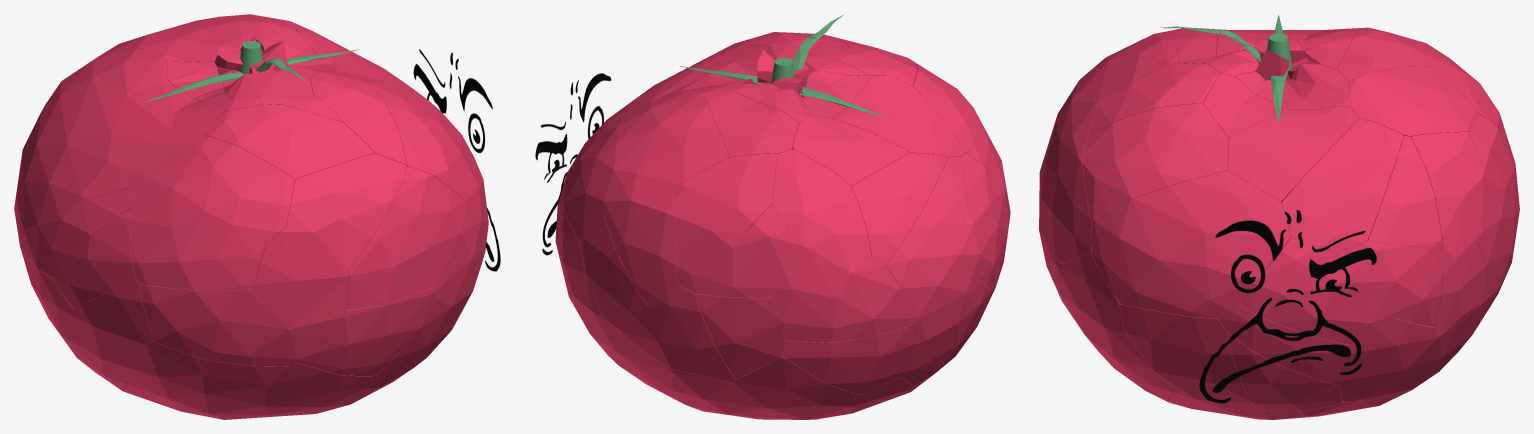
Rendered from Brandywine Tomato-Angry (Post Explosion).glb.
3 renders of one model, left to right at view 1: azimuth 30°, elevation 25°; view 2: azimuth 150°, elevation 25°; view 3: azimuth 270°, elevation 25°, orthographic. The views are drawn at different scales.
Visible parts, largest first — view 1: Brandywine Tomato_cell.047, Brandywine Tomato_cell.015, Brandywine Tomato_cell.008, Brandywine Tomato_cell.030, Brandywine Tomato_cell.032, Brandywine Tomato_cell.033, Brandywine Tomato_cell.037, Brandywine Tomato_cell.026, Brandywine Tomato_cell.021, Brandywine Tomato_cell.090, Brandywine Tomato_cell.053, Brandywine Tomato_cell.092 (+26 smaller); view 2: Brandywine Tomato_cell.020, Brandywine Tomato_cell.007, Brandywine Tomato_cell.028, Brandywine Tomato_cell.072, Brandywine Tomato_cell.045, Brandywine Tomato_cell.023, Brandywine Tomato_cell.024, Brandywine Tomato_cell.061, Brandywine Tomato_cell.090, Brandywine Tomato_cell.006, Brandywine Tomato_cell.070, Brandywine Tomato_cell.096 (+32 smaller); view 3: Brandywine Tomato_cell.003, Brandywine Tomato_cell.092, Brandywine Tomato_cell.050, Brandywine Tomato_cell.088, Brandywine Tomato_cell.012, Brandywine Tomato_cell.042, Brandywine Tomato_cell.028, Brandywine Tomato_cell.108, Brandywine Tomato_cell.029, Brandywine Tomato_cell.047, Brandywine Tomato_cell.068, Brandywine Tomato_cell.035 (+29 smaller).
Part boxes in pixels (x1,y1,x2,y2): Brandywine Tomato_cell.047: (347,166,473,310); Brandywine Tomato_cell.015: (135,135,294,241); Brandywine Tomato_cell.008: (129,196,265,290); Brandywine Tomato_cell.030: (139,284,295,366); Brandywine Tomato_cell.032: (286,153,407,270); Brandywine Tomato_cell.033: (252,227,348,362); Brandywine Tomato_cell.037: (205,104,374,179); Brandywine Tomato_cell.026: (138,343,290,419); Brandywine Tomato_cell.021: (297,282,441,375); Brandywine Tomato_cell.090: (114,80,221,201); Brandywine Tomato_cell.053: (74,278,155,381); Brandywine Tomato_cell.092: (365,81,467,202); Brandywine Tomato_cell.020: (776,256,918,342); Brandywine Tomato_cell.007: (772,149,871,273); Brandywine Tomato_cell.028: (628,92,729,188); Brandywine Tomato_cell.072: (604,173,677,304); Brandywine Tomato_cell.045: (885,156,965,319); Brandywine Tomato_cell.023: (673,153,777,230); Brandywine Tomato_cell.024: (851,153,947,265); Brandywine Tomato_cell.061: (675,221,770,298); Brandywine Tomato_cell.090: (833,75,965,157); Brandywine Tomato_cell.006: (627,284,735,382); Brandywine Tomato_cell.070: (782,323,917,394); Brandywine Tomato_cell.096: (695,294,784,379); Brandywine Tomato_cell.003: (1091,171,1290,318); Brandywine Tomato_cell.092: (1082,103,1228,223); Brandywine Tomato_cell.050: (1281,118,1403,252); Brandywine Tomato_cell.088: (1120,304,1255,409); Brandywine Tomato_cell.012: (1228,106,1358,202); Brandywine Tomato_cell.042: (1239,237,1364,345); Brandywine Tomato_cell.028: (1349,66,1477,136); Brandywine Tomato_cell.108: (1199,210,1376,403); Brandywine Tomato_cell.029: (1411,132,1487,244); Brandywine Tomato_cell.047: (1039,138,1091,264); Brandywine Tomato_cell.068: (1367,135,1442,248); Brandywine Tomato_cell.035: (1338,317,1437,402).
Bounding box in the file's own units: 2.91 × 2.24 × 2.87.
3 materials, 1 textured.
